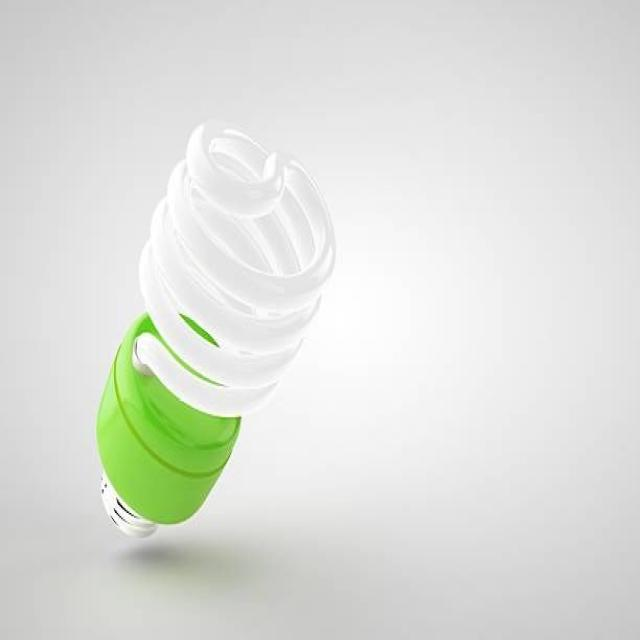electronic: (94, 116, 336, 538)
